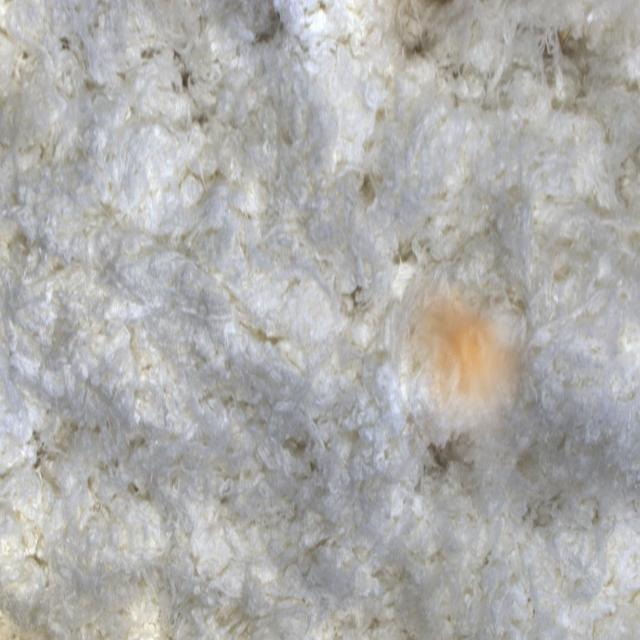dust: (390, 279, 537, 469)
